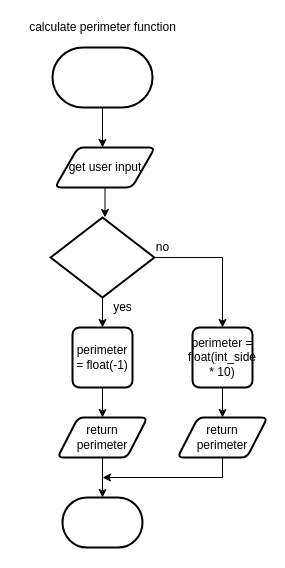
Some shapes in this 285 by 568 pixel diagram are drawn without their labels. Each missing label, with the centre of its shape:
"if int_side <= 0" belongs at (102,257).
"start" belongs at (102,77).
"stop" belongs at (102,522).
